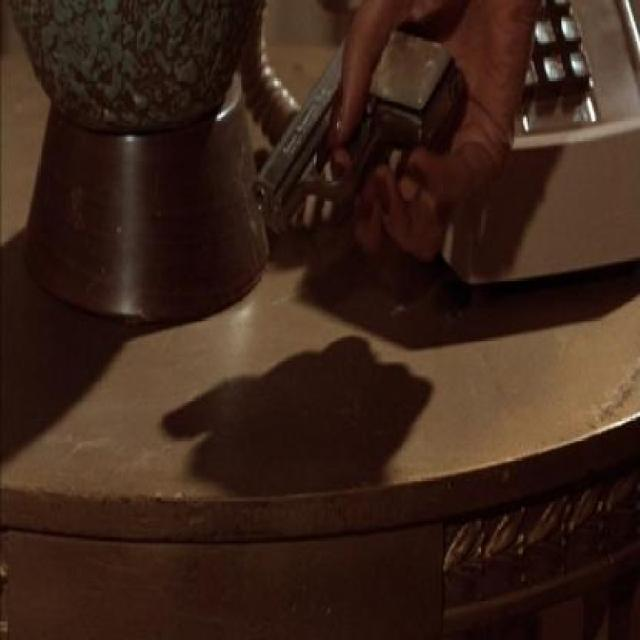guns: (237, 43, 486, 235)
